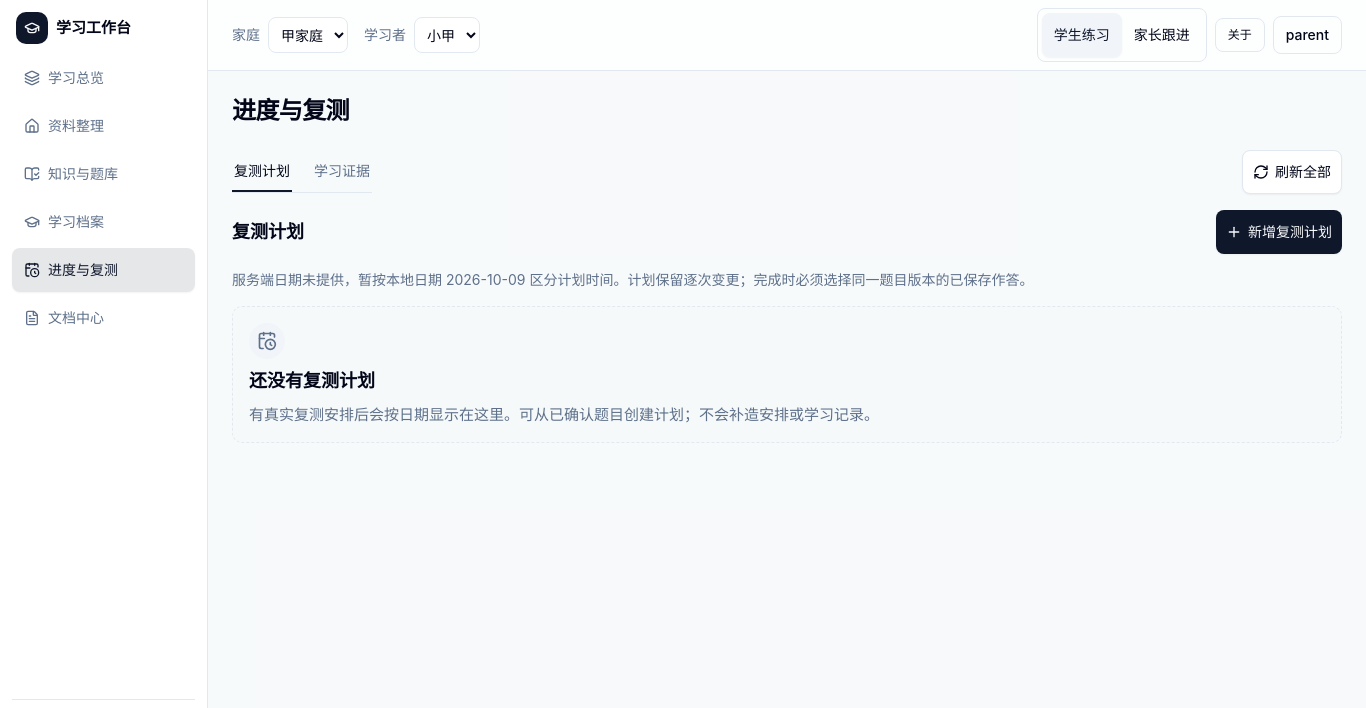
it: App URL navigation › guards module and learner changes for a dirty plan while preserving tab input
This screenshot has width=1366, height=708.
Click the button "新增复测计划".
click(1279, 232)  # box [1216,210,1342,254]
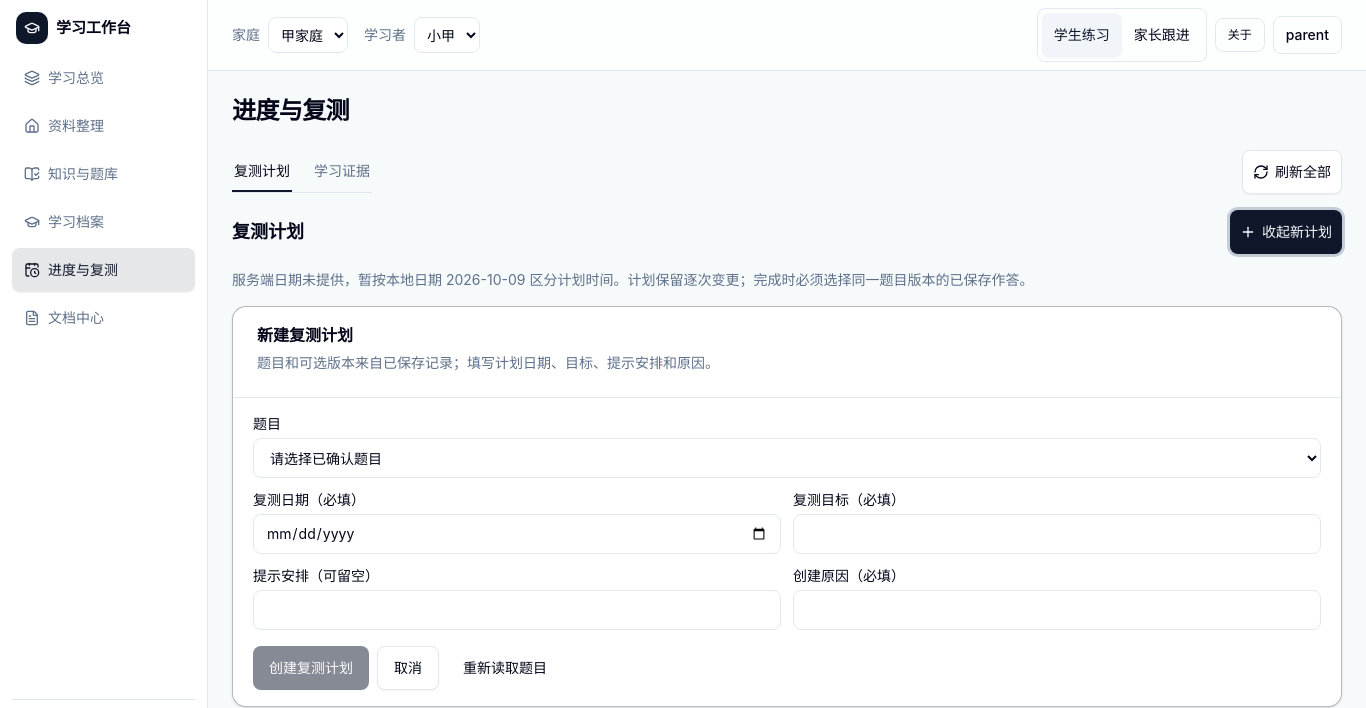
Type "保留这一份未保存计划" into the field labelled "复测目标（必填）".
click(1057, 534); type("保留这一份未保存计划")  # box [793,514,1321,554]
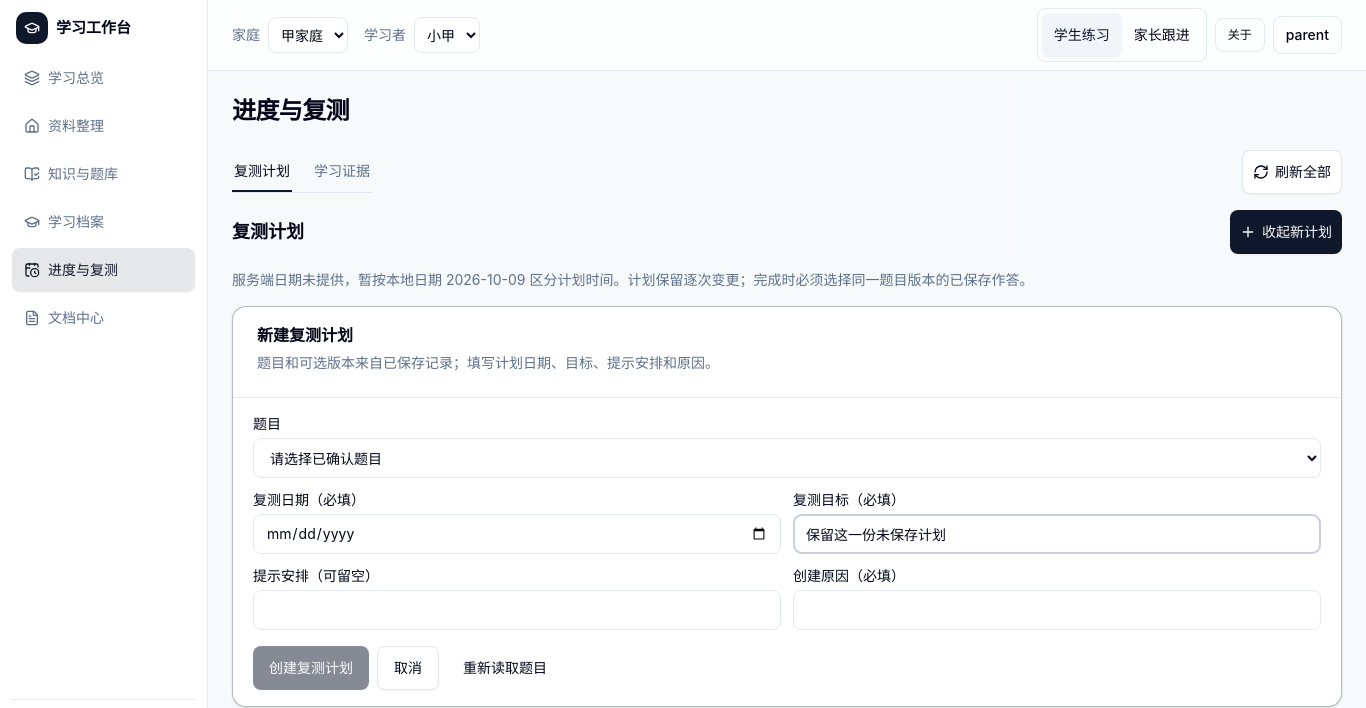
Click the tab "学习证据".
click(342, 172)  # box [312,152,372,192]
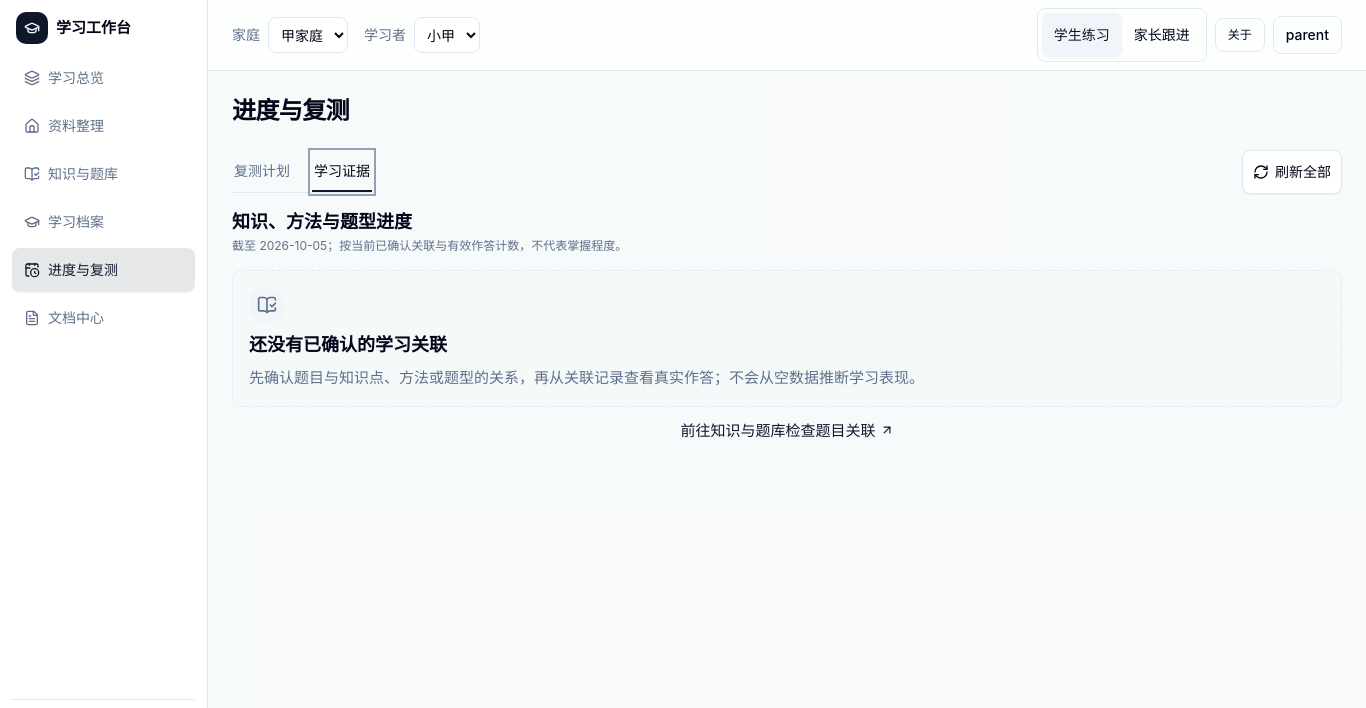
Click the tab "复测计划".
click(262, 172)  # box [232,152,292,192]
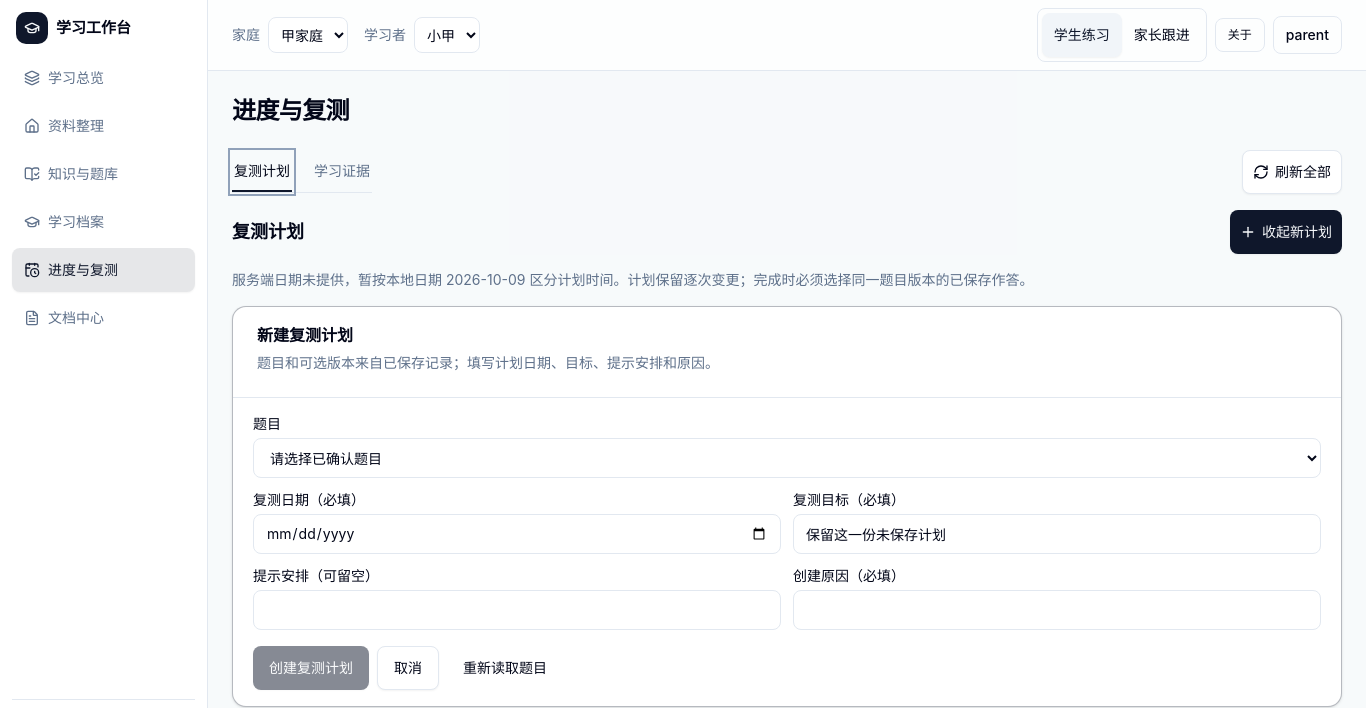
Select "小乙" in the dropdown named "学习者" at (447, 35), box [414,17,480,53]
Click the button "资料整理".
click(104, 126)  # box [12,104,195,148]
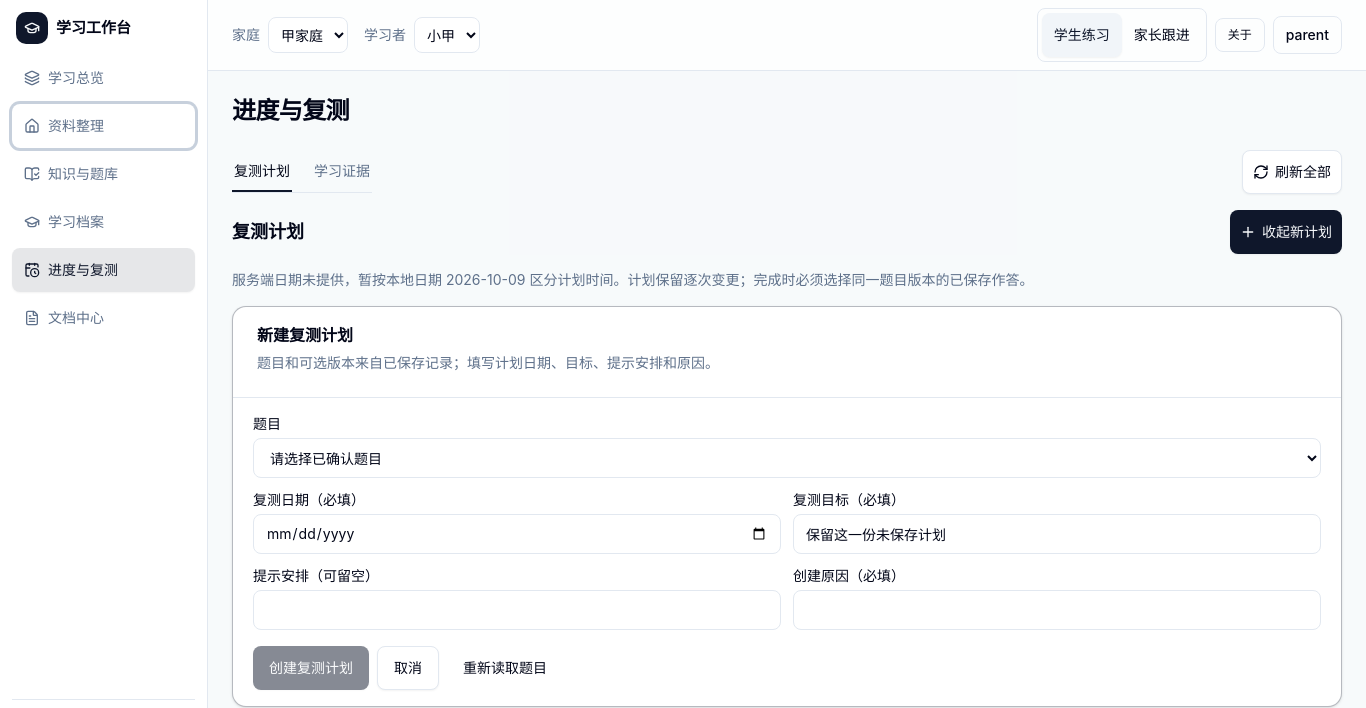
Click the button "资料整理".
click(104, 126)  # box [12,104,195,148]
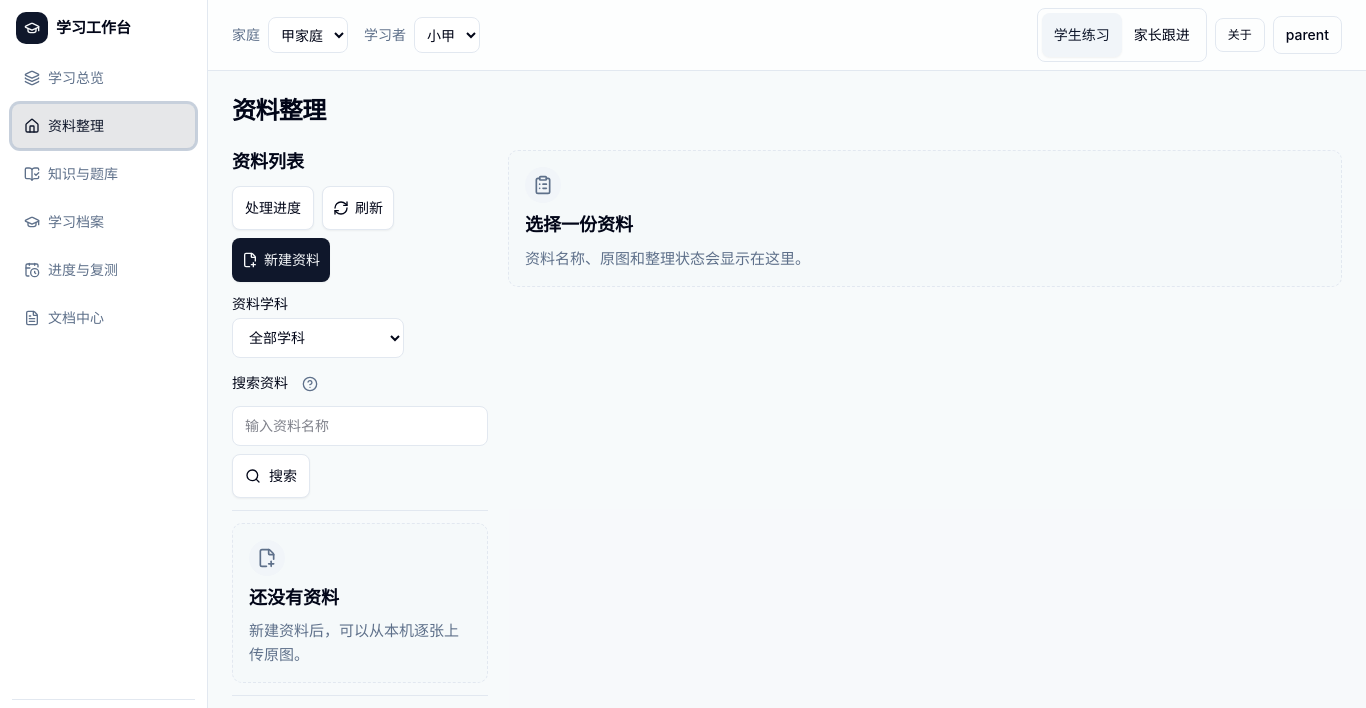
Expected: the heading "还没有资料" is shown, [249,584,339,612]
